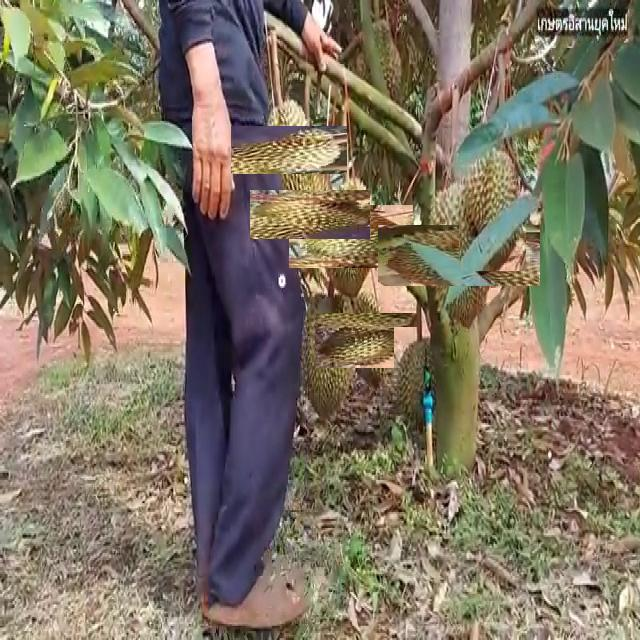durian: (403, 199, 514, 312), (459, 136, 526, 271), (304, 189, 398, 283), (297, 289, 356, 427), (268, 171, 352, 257), (248, 109, 330, 192), (394, 327, 452, 435), (326, 301, 405, 380)
